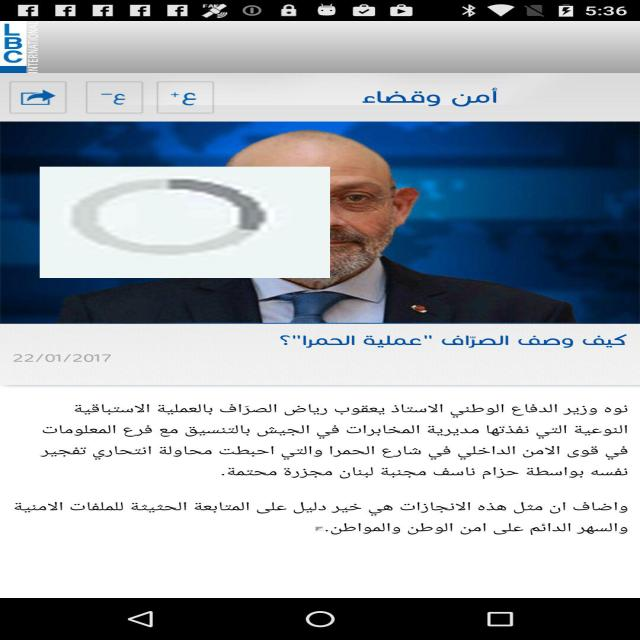misdirection: (40, 167, 330, 278)
